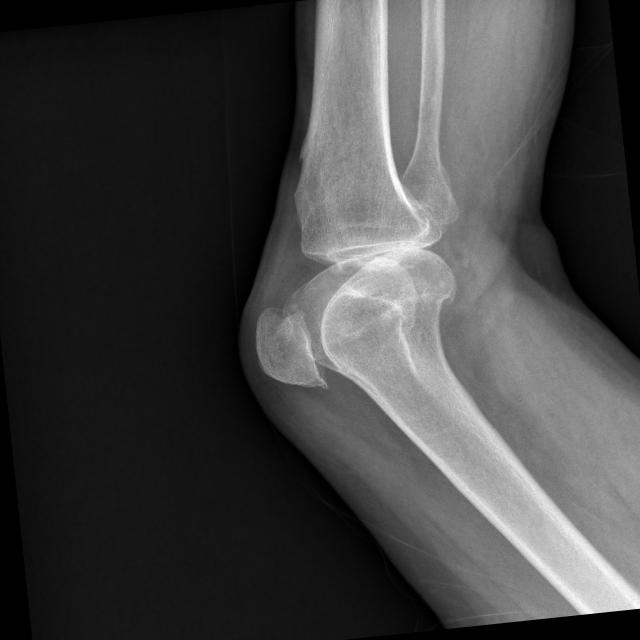Knee: (243, 190, 472, 400)
